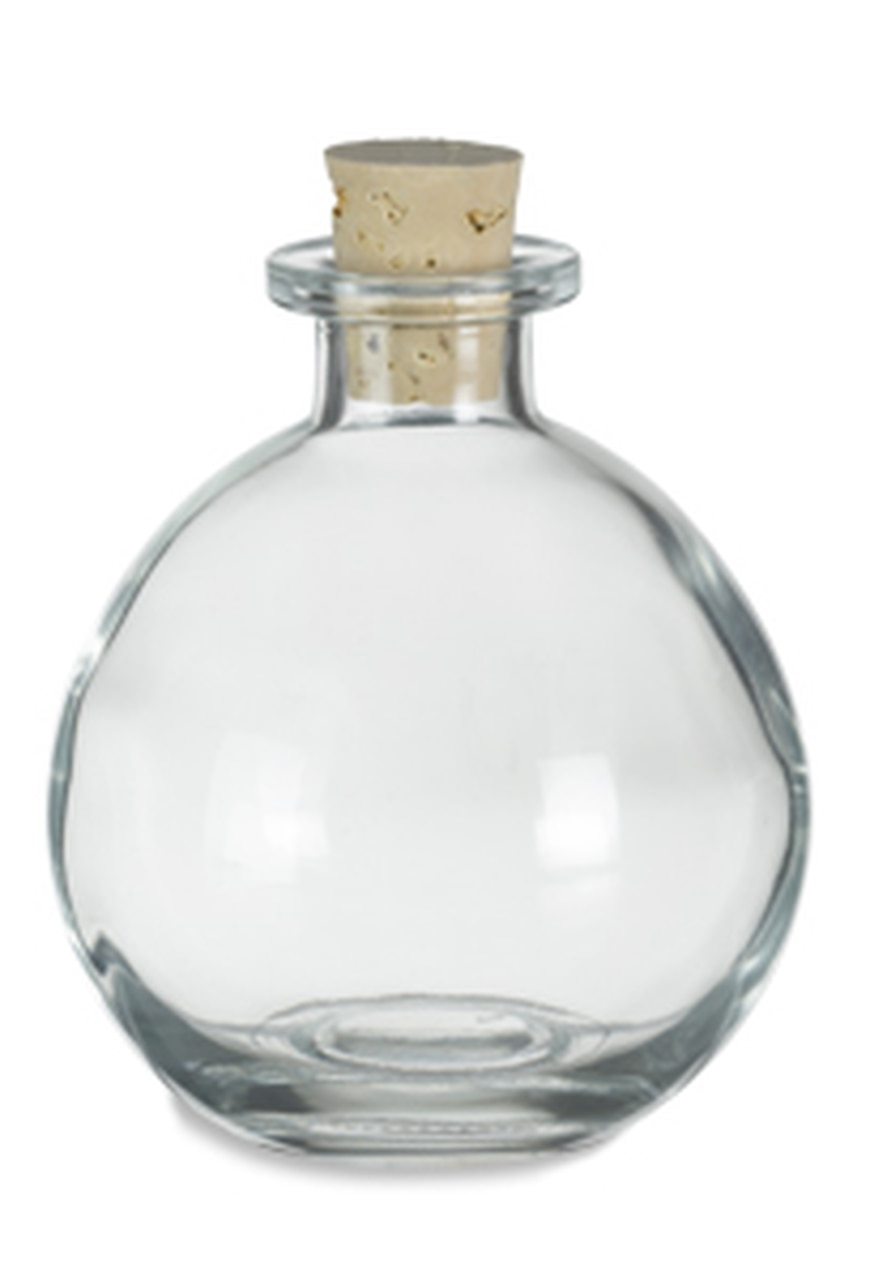glass_bottleww: (17, 85, 832, 1267)
